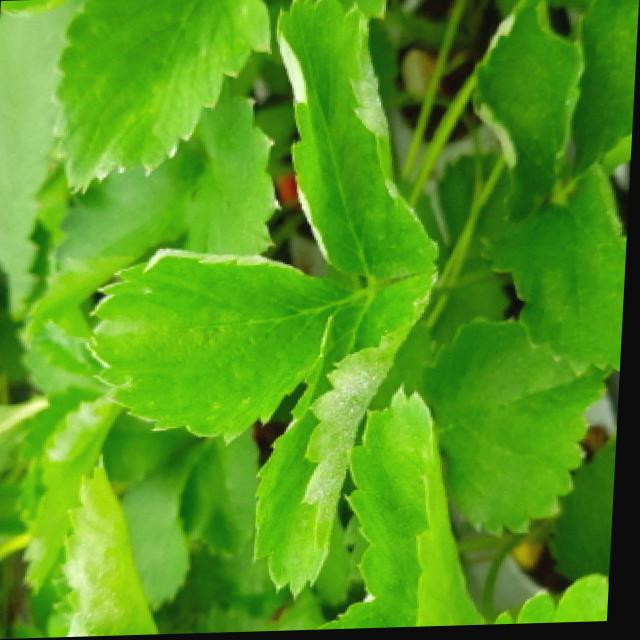Powdery Mildew Leaf: (255, 268, 443, 600), (90, 246, 359, 448), (276, 0, 442, 283), (62, 449, 167, 638)
